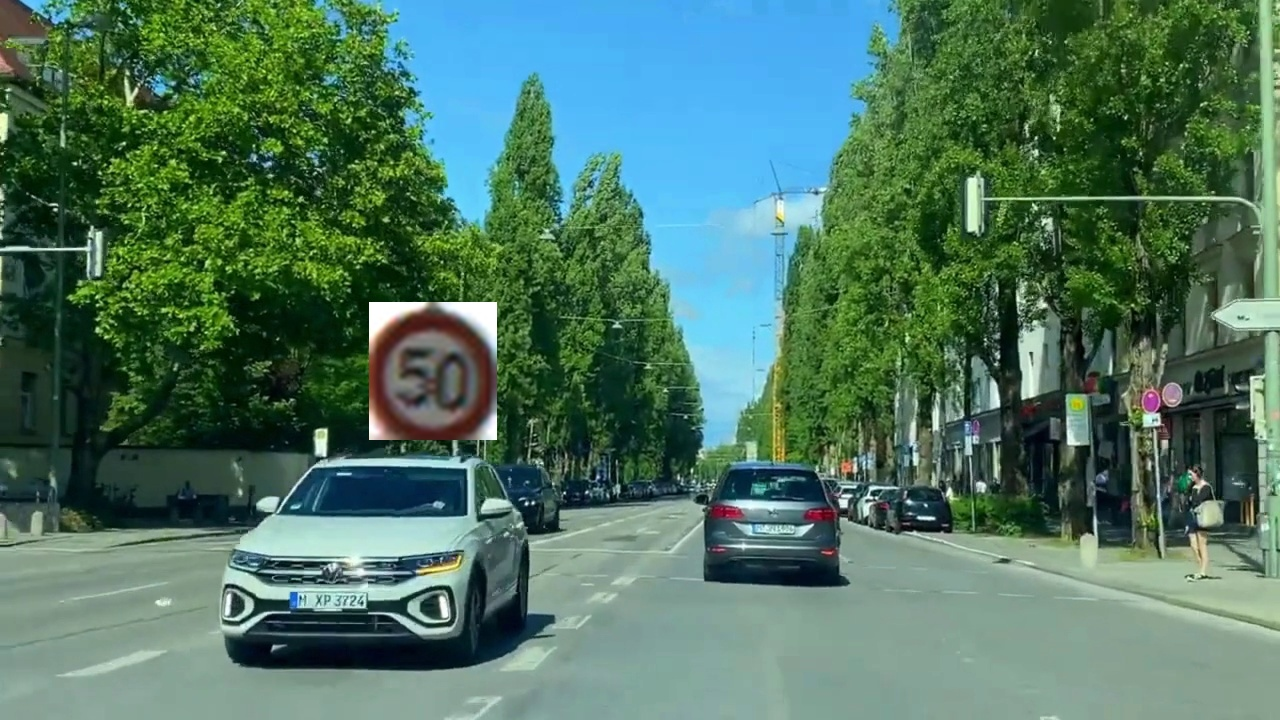Speed 50: (369, 302, 497, 440)
